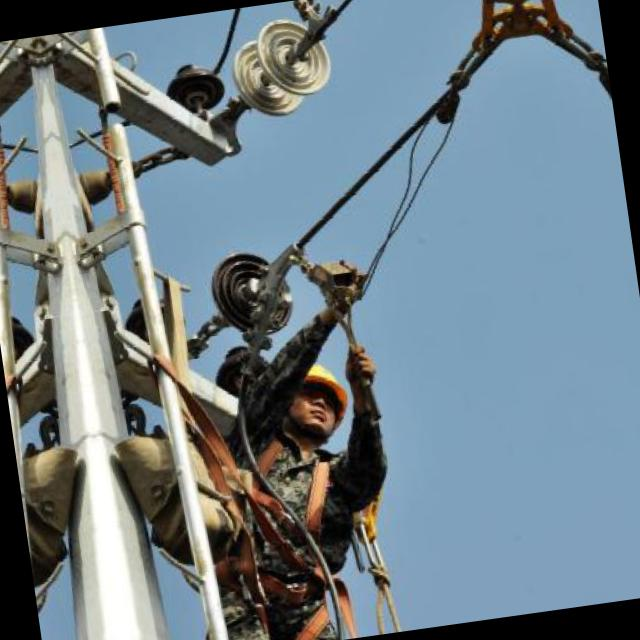helmet: (279, 354, 359, 450)
